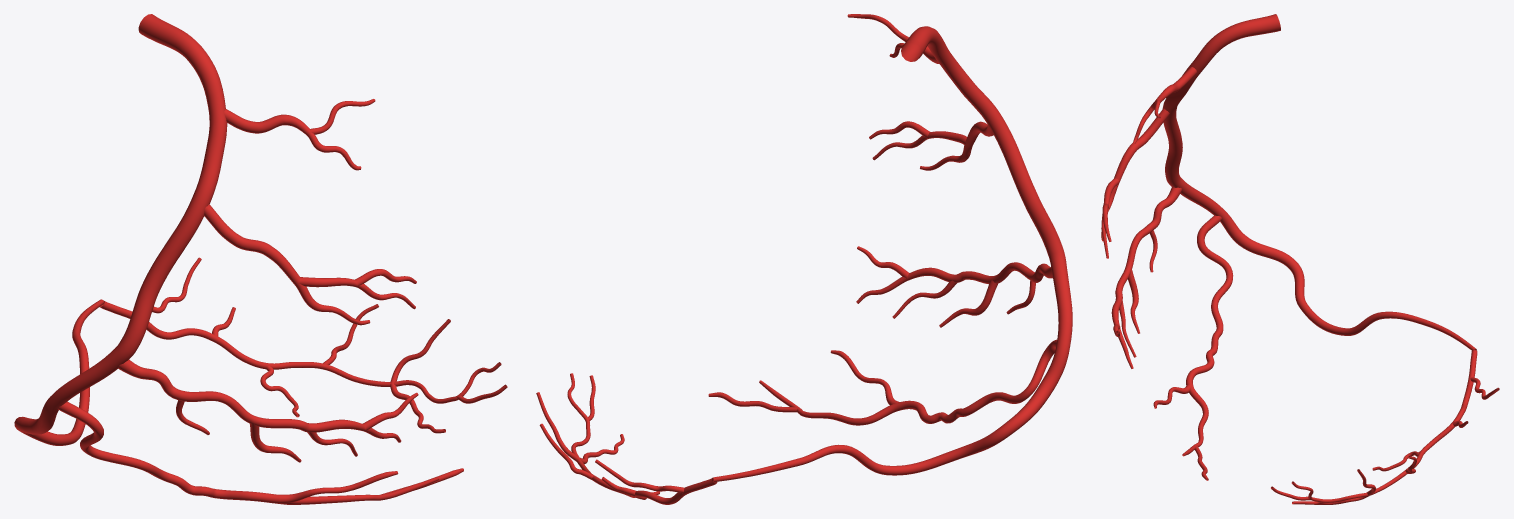
Rendered from circulatorio-right-coronary-artery.glb.
The picture shows the model from 3 angles, left to right: view 1: azimuth 30°, elevation 25°; view 2: azimuth 150°, elevation 25°; view 3: azimuth 270°, elevation 25°; orthographic projection. The views are drawn at different scales.
Visible parts, largest first — view 1: Right coronary artery, Right inferolateral branch of right coronary artery; view 2: Right coronary artery, Right inferolateral branch of right coronary artery; view 3: Right coronary artery, Right inferolateral branch of right coronary artery.
Part boxes in pixels (x1,y1,x2,y2): Right coronary artery: (14,14,463,504); Right inferolateral branch of right coronary artery: (100,257,507,433); Right coronary artery: (708,14,1072,481); Right inferolateral branch of right coronary artery: (536,373,717,504); Right coronary artery: (1101,14,1476,480); Right inferolateral branch of right coronary artery: (1271,350,1499,504).
Bounding box in the file's own units: 0.0994 × 0.0958 × 0.0909.
